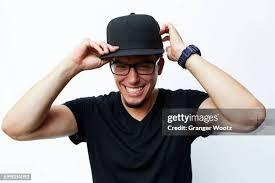cap: (99, 9, 168, 61)
sunglasses: (107, 58, 160, 78)
